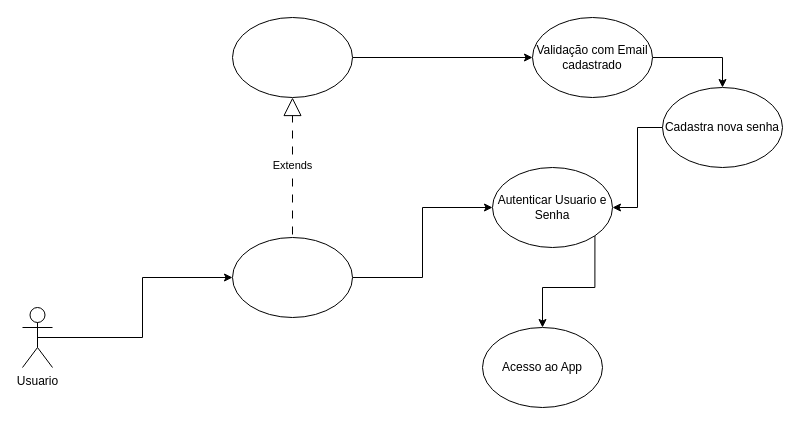
The diagram is 800 pixels wide and 425 high, and some of its shapes have lost their labels. The centre of each missing label's shape, as x and y in pixels:
Criar nova senha ou primeiro login: [292,57]
Logar: [292,277]
